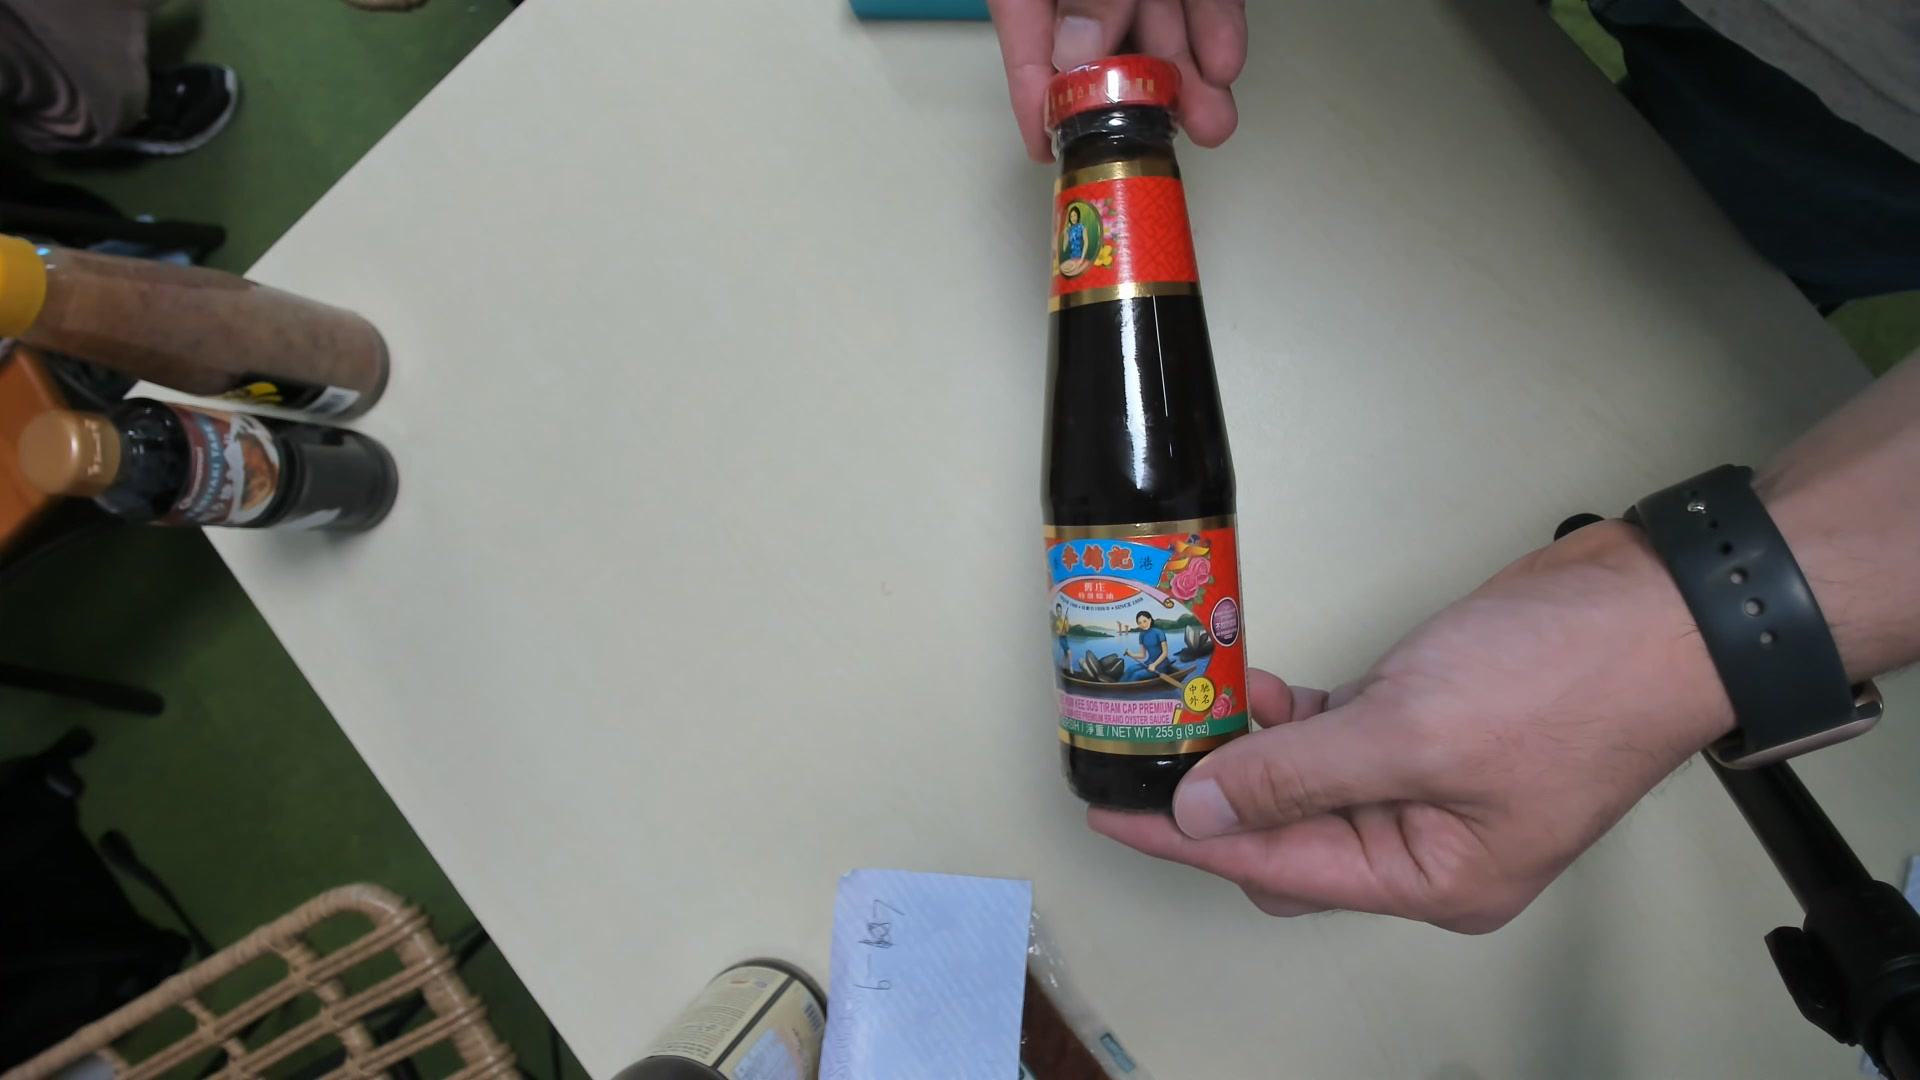OtherSauceDressingSoupbasePaste_200-299g_Halal_NonHealthy: (1035, 61, 1253, 802)
